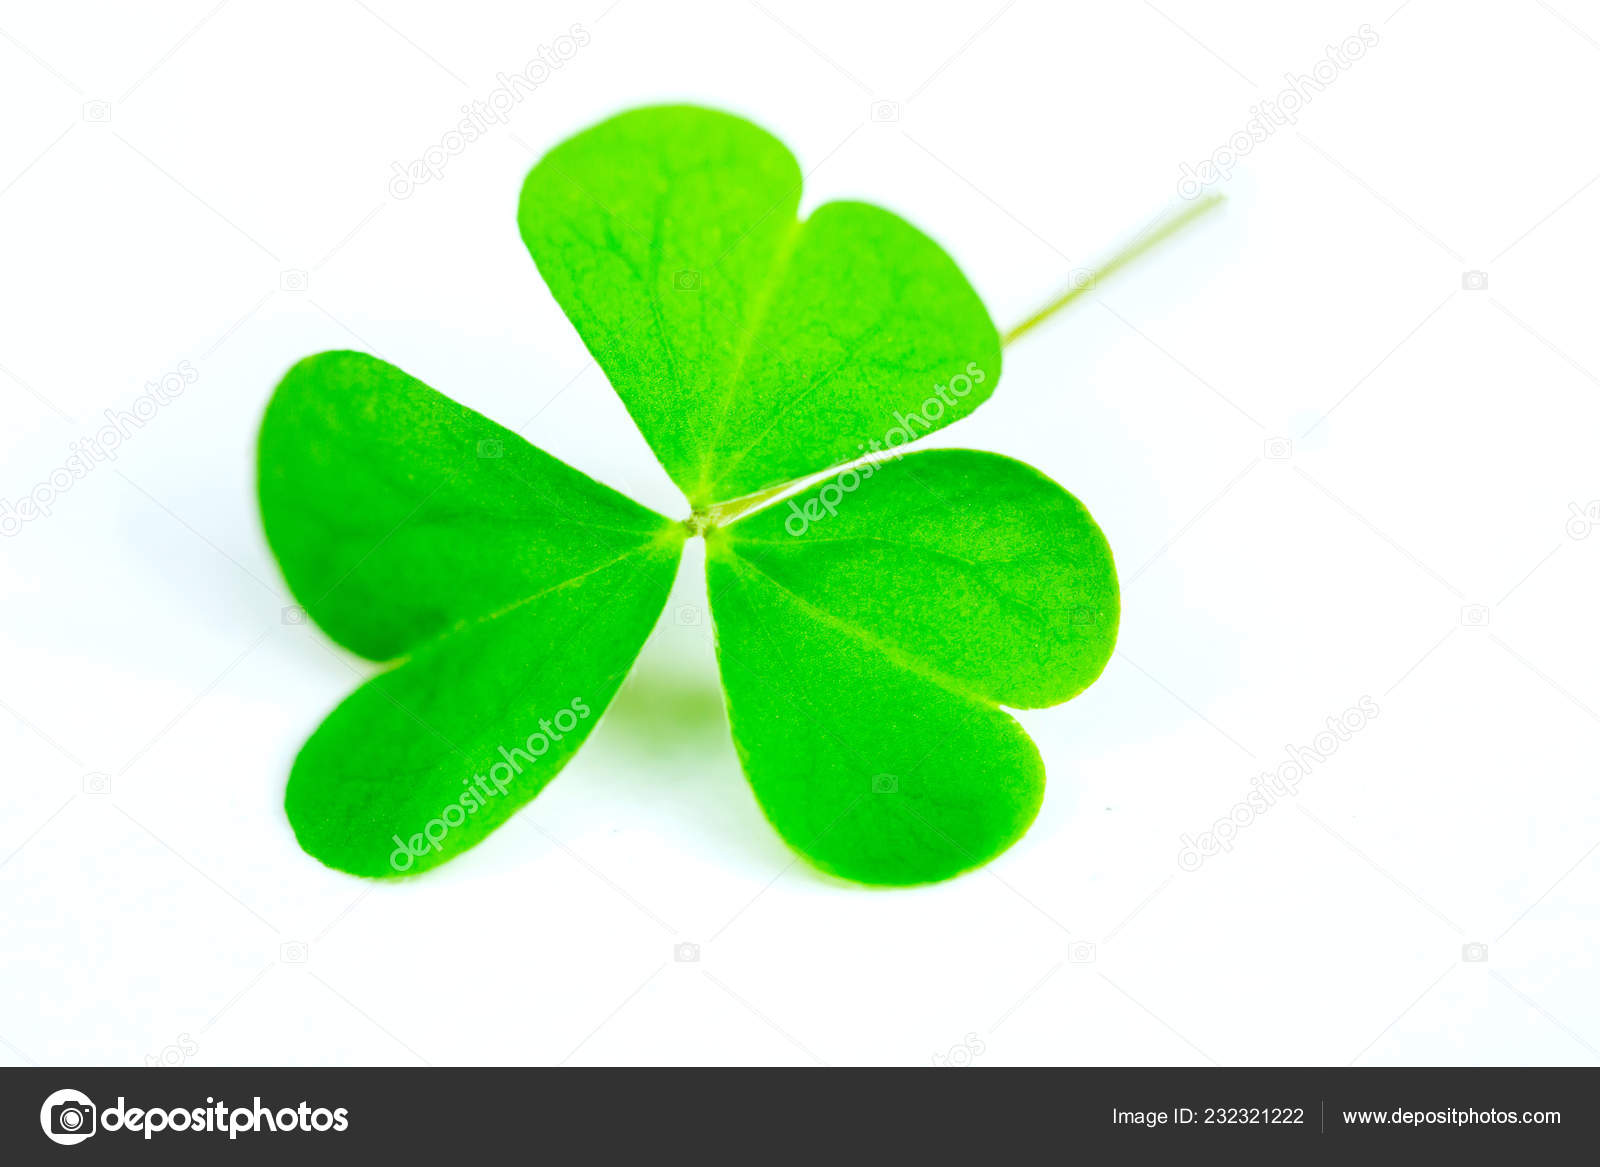oxalis: (217, 152, 1207, 904)
